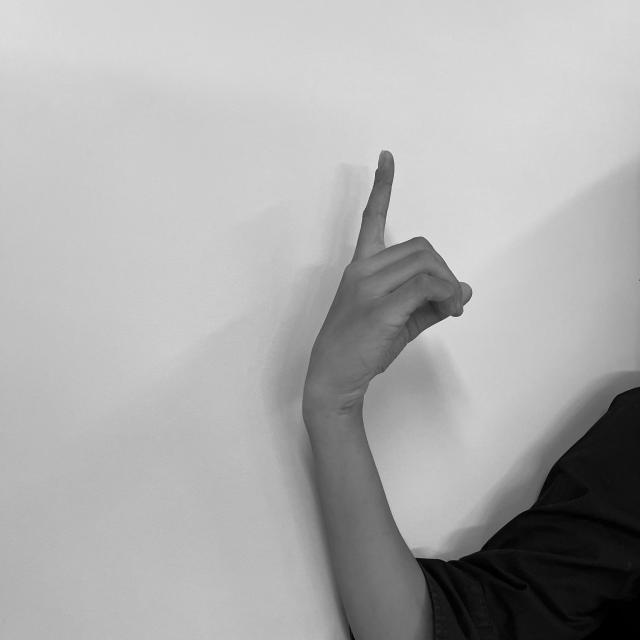Letra D: (298, 142, 478, 410)
